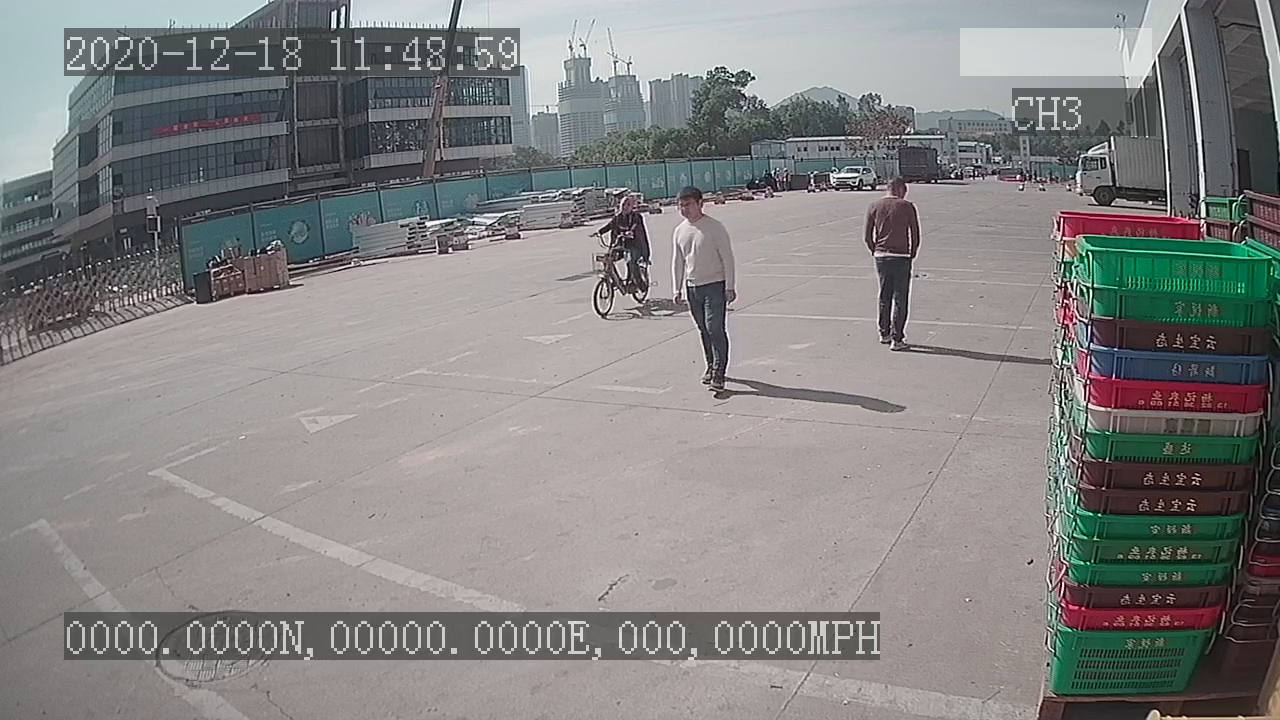person: (667, 183, 742, 403), (861, 176, 924, 354)
